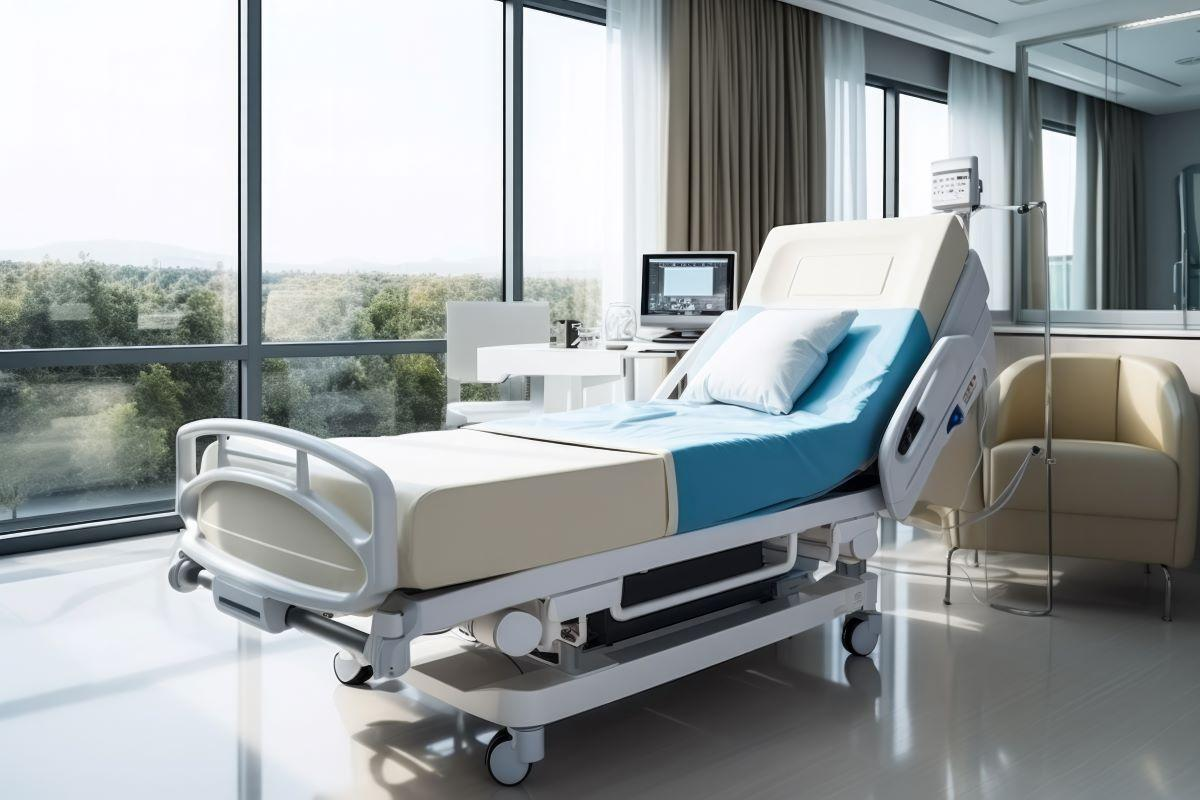Monitor: (636, 226, 739, 345)
bed: (116, 208, 994, 800)
sofa: (936, 308, 1200, 621)
